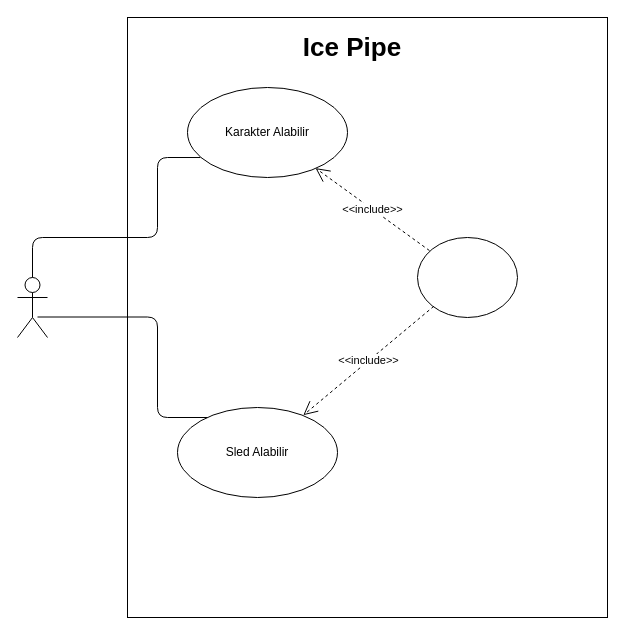
Image size: 625x635. Some labels were removed from this diagram. Here are the shapes that lost their labels. From the top down, the centre of each, then its label:
(467,277): Emerald Payment
(32,307): User
